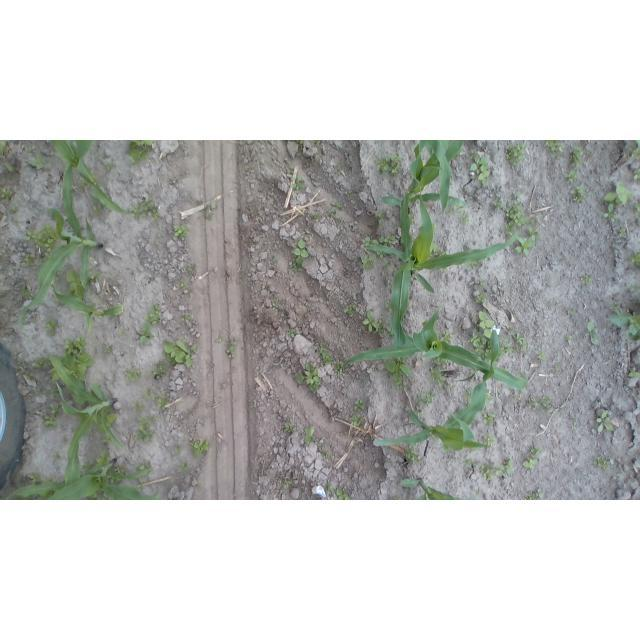Maize: (365, 187, 519, 294), (341, 304, 528, 390), (373, 329, 500, 452), (18, 163, 104, 325), (47, 354, 122, 485), (49, 140, 135, 216), (6, 459, 162, 500), (380, 141, 465, 212), (53, 284, 123, 335), (413, 140, 451, 210), (401, 476, 462, 500)
Weeds: (161, 340, 192, 369), (608, 307, 640, 335), (468, 459, 515, 478), (294, 362, 322, 393), (25, 225, 56, 252), (427, 360, 453, 392), (126, 140, 155, 164), (385, 359, 411, 385), (64, 354, 93, 377), (132, 198, 161, 220), (291, 238, 310, 271), (605, 183, 633, 205), (377, 154, 406, 175), (471, 152, 489, 184), (503, 203, 526, 227), (65, 271, 84, 300), (29, 150, 53, 172), (505, 142, 526, 166), (363, 307, 381, 334), (314, 341, 333, 366), (528, 394, 554, 412), (476, 311, 493, 338), (62, 337, 86, 355), (0, 141, 14, 171), (516, 234, 535, 256), (137, 325, 156, 346), (188, 439, 210, 457), (362, 235, 395, 246), (417, 389, 436, 408), (597, 413, 616, 432), (469, 334, 487, 354), (137, 417, 153, 439), (124, 363, 142, 382), (404, 446, 420, 465), (570, 183, 586, 201), (586, 323, 599, 344), (149, 304, 163, 323), (95, 452, 110, 469), (227, 337, 239, 358), (31, 357, 50, 370), (45, 320, 59, 337), (543, 140, 562, 152), (570, 147, 582, 166), (173, 225, 188, 240), (602, 205, 618, 219), (349, 414, 365, 428), (154, 394, 168, 410), (152, 361, 166, 377), (332, 359, 345, 376), (375, 207, 387, 225), (291, 177, 305, 192), (627, 249, 640, 265), (500, 341, 513, 357), (0, 187, 16, 200), (304, 423, 313, 446), (528, 488, 545, 500), (43, 413, 57, 427), (522, 459, 539, 470), (484, 430, 497, 444), (284, 420, 296, 434), (483, 412, 498, 423), (491, 196, 501, 212), (336, 488, 348, 501), (632, 141, 640, 160), (137, 459, 152, 469), (597, 456, 609, 468), (442, 331, 455, 342), (343, 306, 354, 319), (362, 256, 373, 269), (93, 201, 103, 215), (21, 255, 36, 264), (189, 264, 200, 276), (329, 210, 341, 221), (112, 465, 125, 475), (526, 227, 540, 236), (94, 148, 103, 162), (629, 284, 640, 295), (477, 294, 488, 305), (21, 287, 32, 298), (531, 446, 543, 456), (330, 201, 345, 209), (132, 401, 144, 411), (568, 170, 577, 183), (386, 326, 395, 339), (144, 388, 153, 401), (355, 399, 365, 410), (629, 368, 640, 378), (514, 335, 524, 346), (512, 190, 523, 200), (9, 205, 20, 215), (178, 280, 188, 291), (88, 269, 99, 279), (283, 478, 293, 489), (319, 446, 329, 457), (28, 473, 41, 481), (16, 359, 25, 370), (346, 188, 358, 196), (460, 212, 469, 222), (270, 301, 280, 310), (566, 335, 574, 346), (465, 389, 471, 403), (487, 392, 494, 404), (314, 212, 323, 221), (174, 445, 183, 454), (181, 460, 190, 469), (120, 329, 129, 338), (535, 350, 545, 358), (618, 229, 626, 239), (635, 201, 640, 217), (584, 274, 591, 285), (467, 263, 475, 272), (430, 244, 438, 253), (288, 329, 297, 337), (189, 345, 197, 354), (80, 179, 89, 187), (51, 389, 60, 397), (54, 453, 63, 461), (104, 347, 113, 355), (634, 167, 640, 178), (391, 494, 402, 500), (181, 312, 189, 320), (557, 405, 565, 413), (106, 162, 114, 170), (211, 200, 218, 209), (52, 408, 60, 415), (612, 301, 621, 307), (326, 485, 332, 494), (248, 163, 255, 170), (555, 365, 562, 372), (567, 307, 573, 315), (571, 422, 577, 430), (30, 372, 35, 380), (514, 395, 521, 400), (475, 490, 480, 497), (480, 279, 485, 285), (386, 301, 391, 307), (298, 140, 304, 144), (316, 141, 321, 144)
